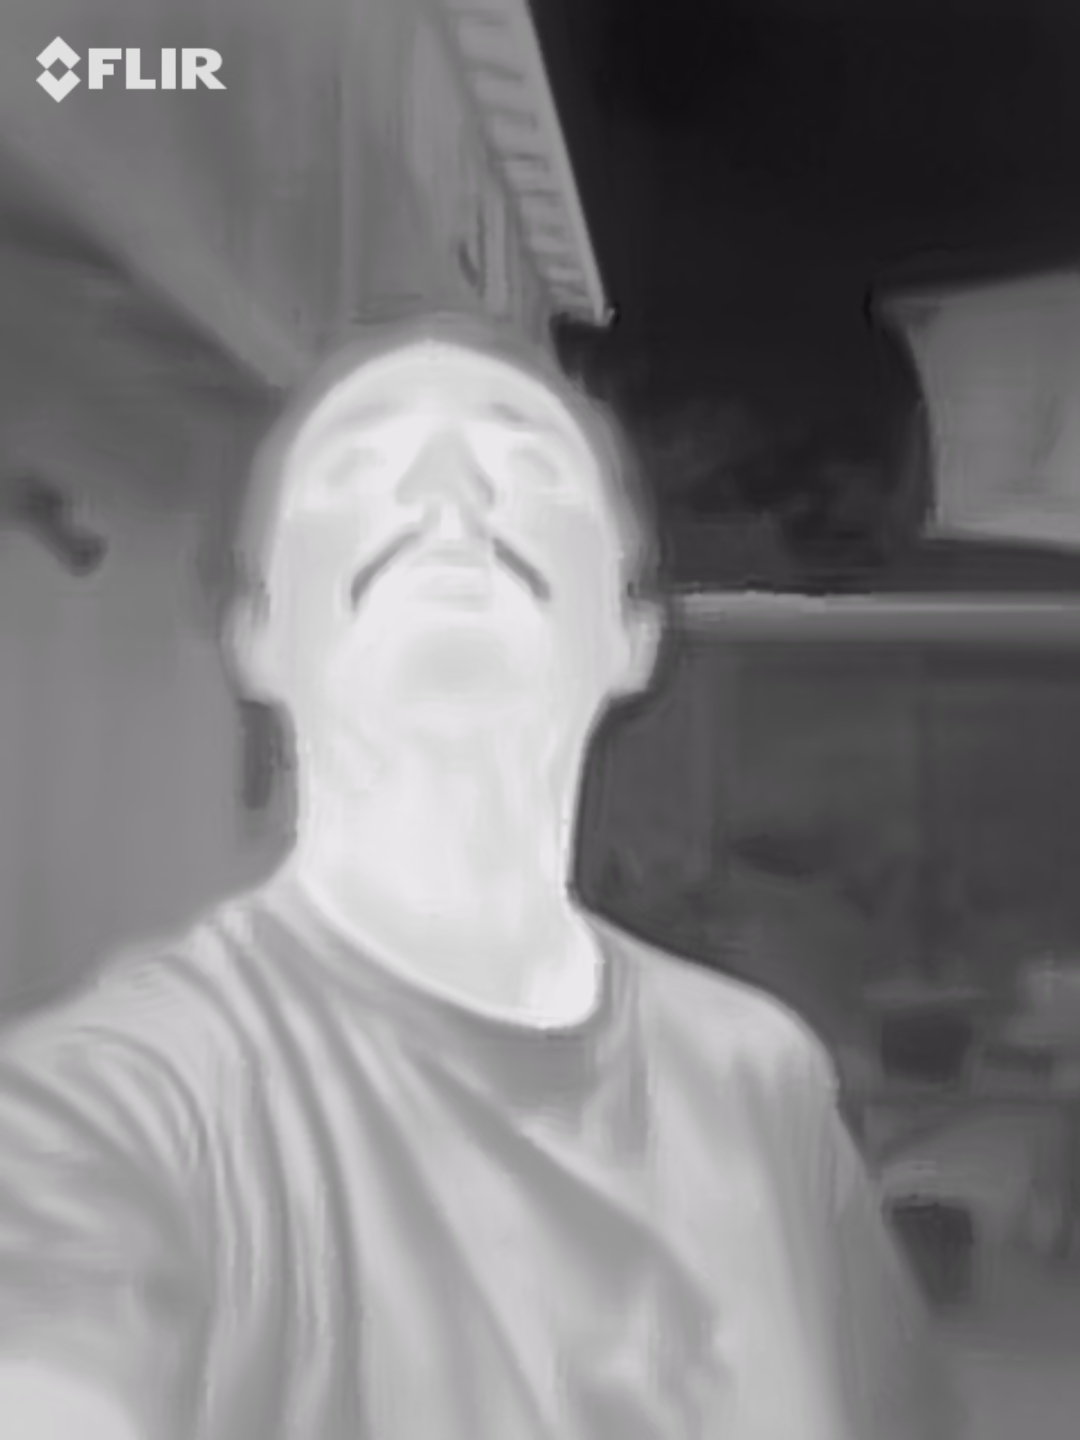head: (216, 318, 669, 822)
